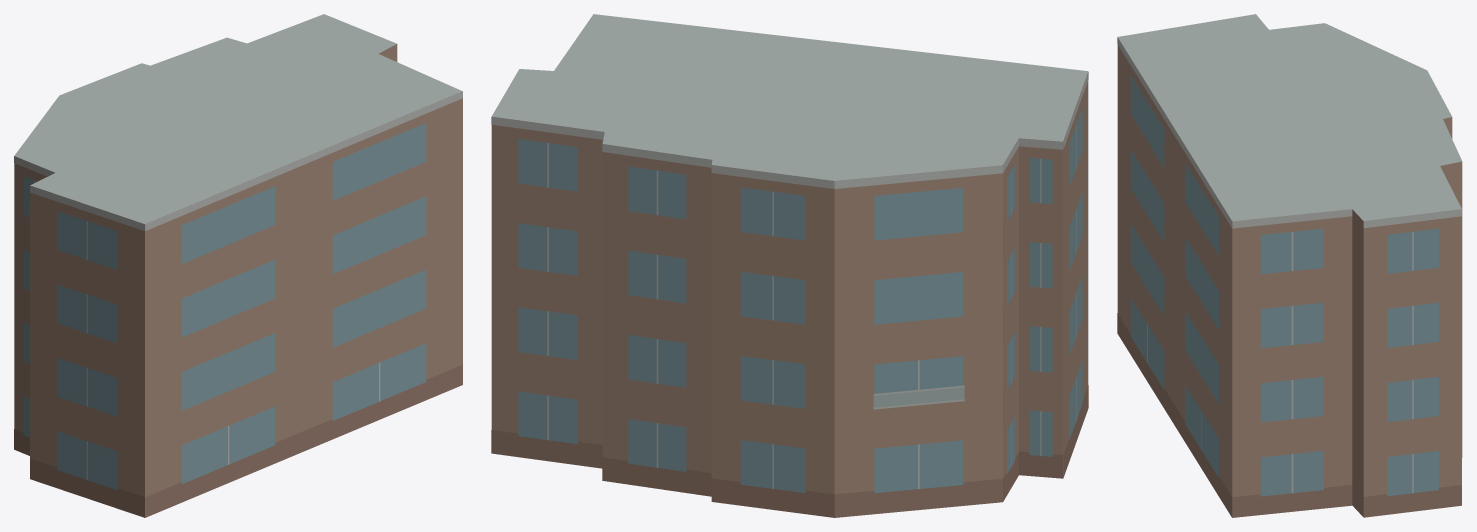
Rendered from survey-upis-32987337.glb.
3 views of the same model, side by side, from view 1: azimuth 30°, elevation 25°; view 2: azimuth 150°, elevation 25°; view 3: azimuth 270°, elevation 25° (orthographic). The views are drawn at different scales.
Parts seen in each view (by area): view 1: survey-upis-32987337.tmp; view 2: survey-upis-32987337.tmp; view 3: survey-upis-32987337.tmp.
Part boxes in pixels (x1,y1,x2,y2): survey-upis-32987337.tmp: [14, 14, 462, 517]; survey-upis-32987337.tmp: [491, 14, 1088, 517]; survey-upis-32987337.tmp: [1117, 14, 1462, 517].
Size of the model in its own units: 15.32 by 10.2 by 10.77.
